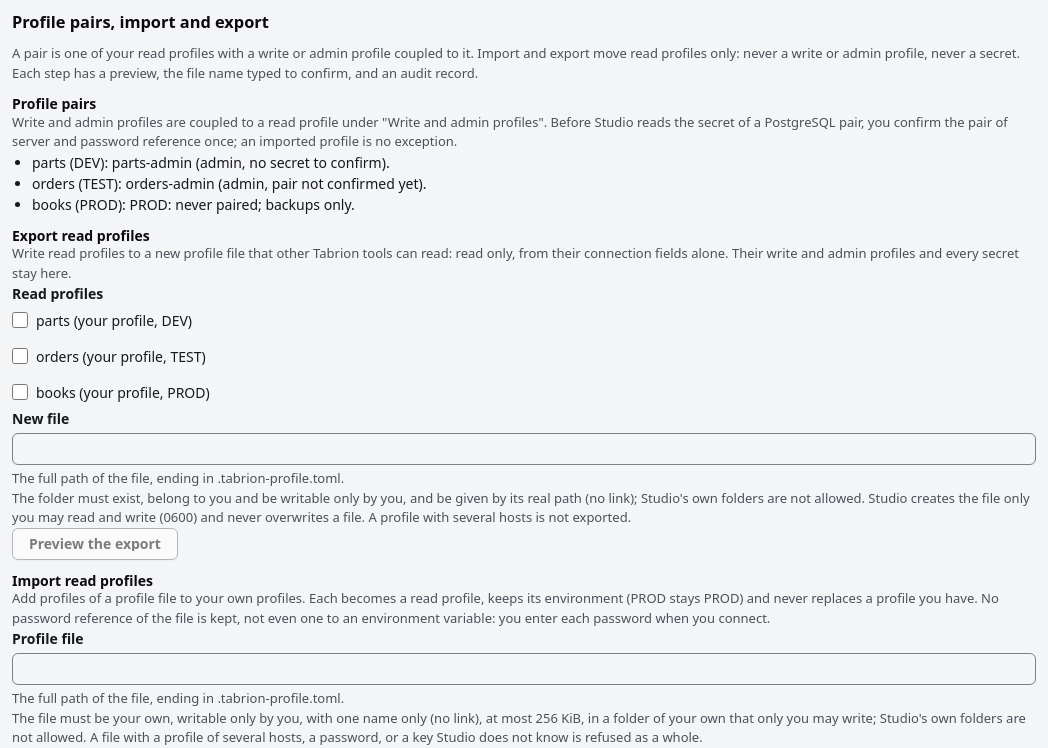
Test: profile pairs, import and export (STU-XDM-5) › shows the export preview's refusal and the field it names
The width and height of the screenshot is (1048, 748).
Click the checkbox with test id "dbm-export-pick-user:parts": (20,320) [12,312,28,328]
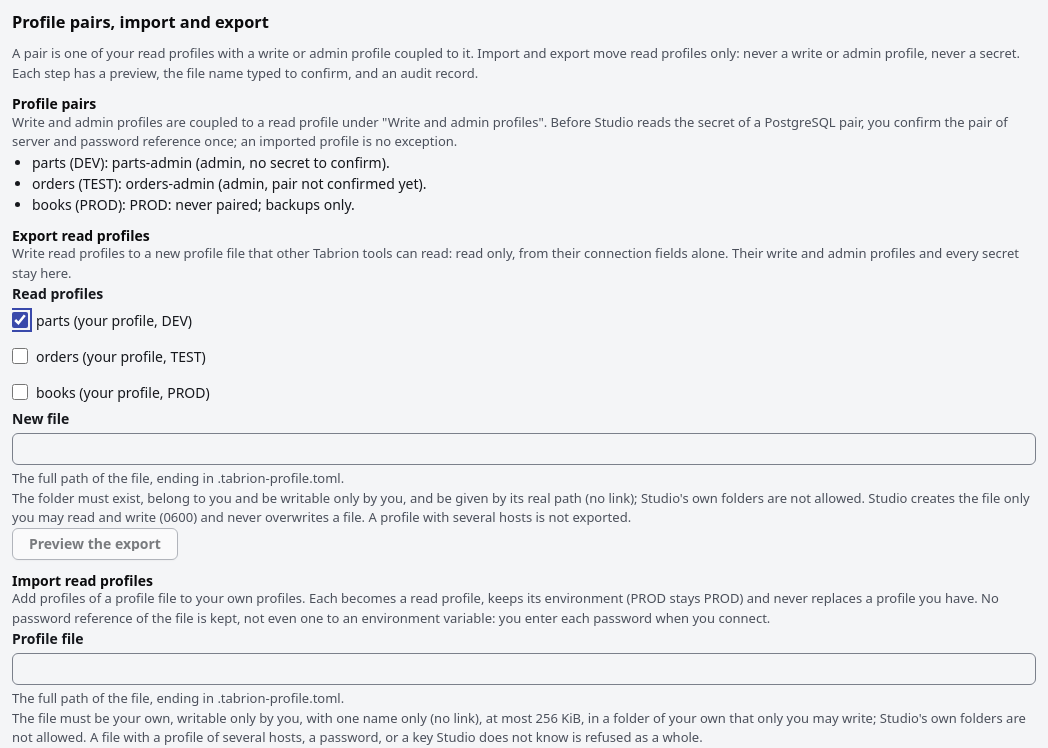
In the field with test id "dbm-export-path": (524,450) [12,434,1036,466], type "out.tabrion-profile.toml"
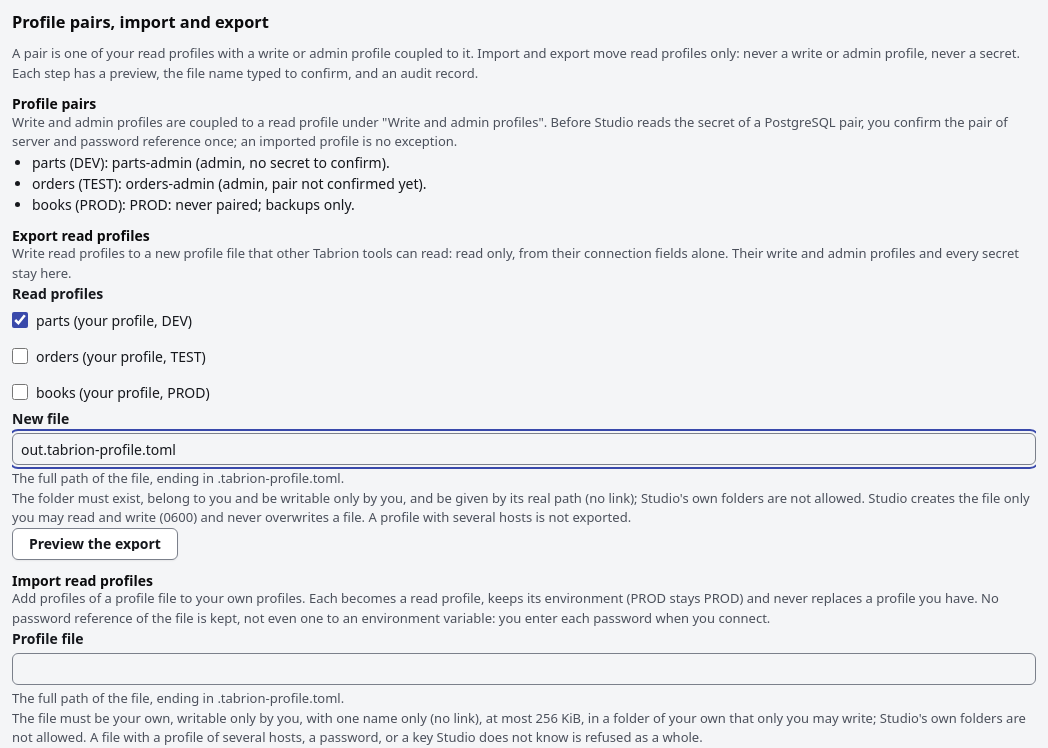
Click the button with test id "dbm-export-preview": (95,544) [12,528,178,560]
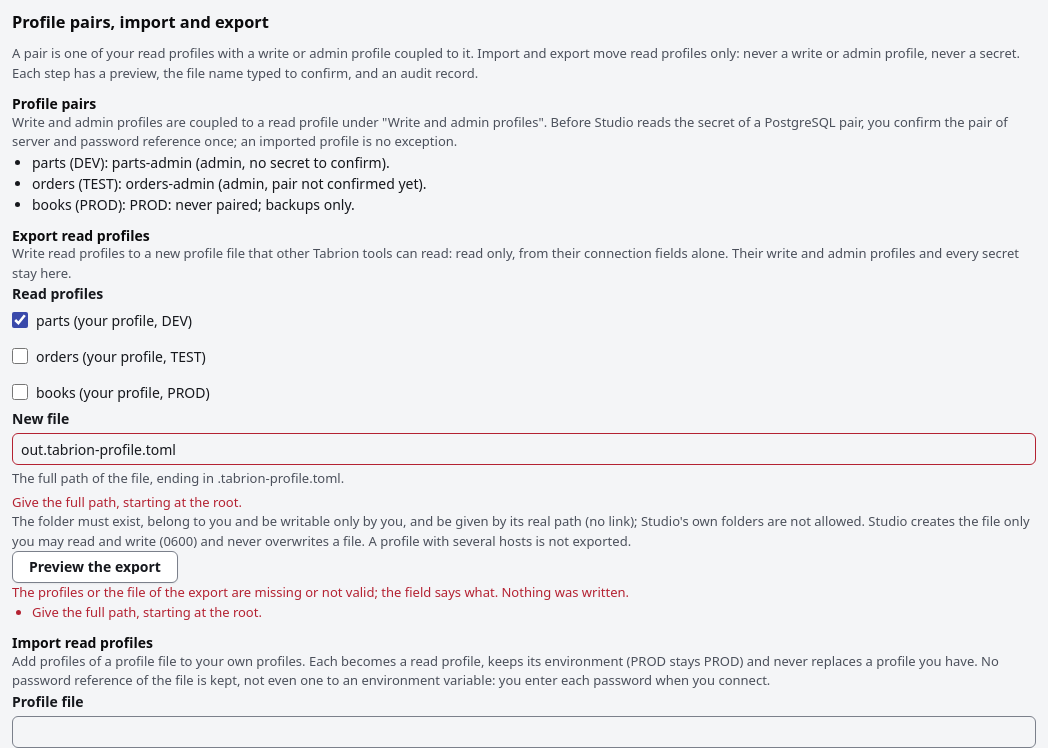
Check: the message with test id "dbm-export-problem" shows "Nothing was written.", box [12,584,629,602]
